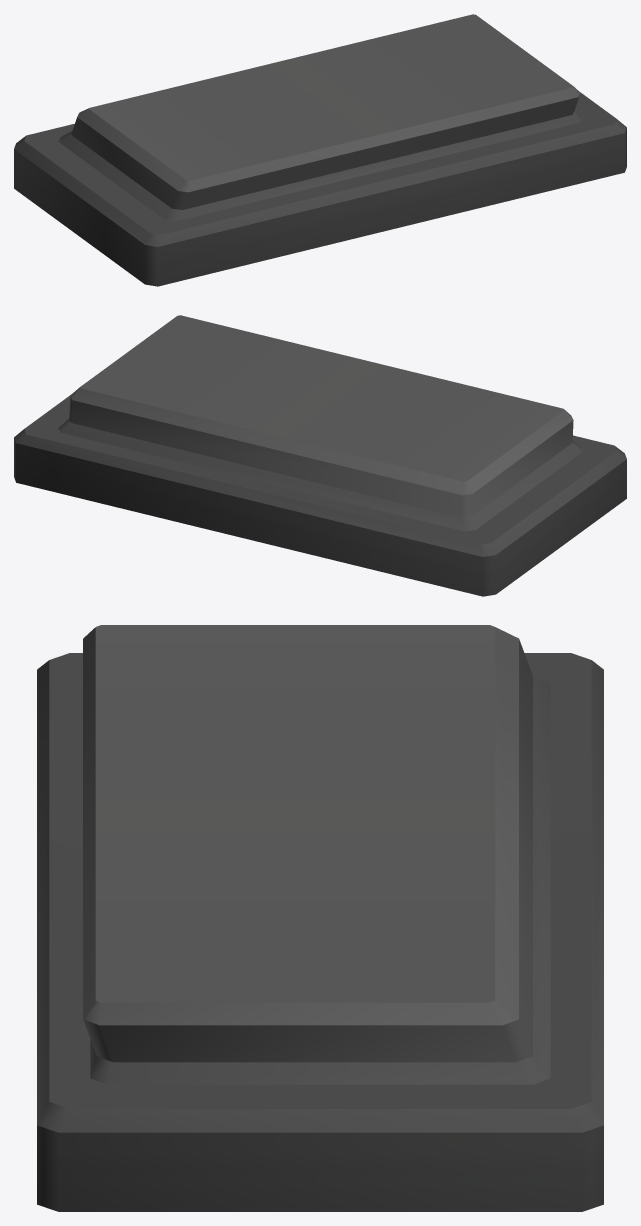
Rendered from Grave_2_1.obj.
3 views of the same model, one above another, from view 1: azimuth 30°, elevation 25°; view 2: azimuth 150°, elevation 25°; view 3: azimuth 270°, elevation 25° (orthographic). The views are drawn at different scales.
Visible parts, largest first — view 1: Grave_2_1; view 2: Grave_2_1; view 3: Grave_2_1.
Boxes of the visible parts, x1,y1,x2,y2 form: Grave_2_1: (14,14,626,286); Grave_2_1: (14,315,626,596); Grave_2_1: (37,625,603,1211).
Bounding box in the file's own units: 1.69 × 0.2801 × 0.8601.
